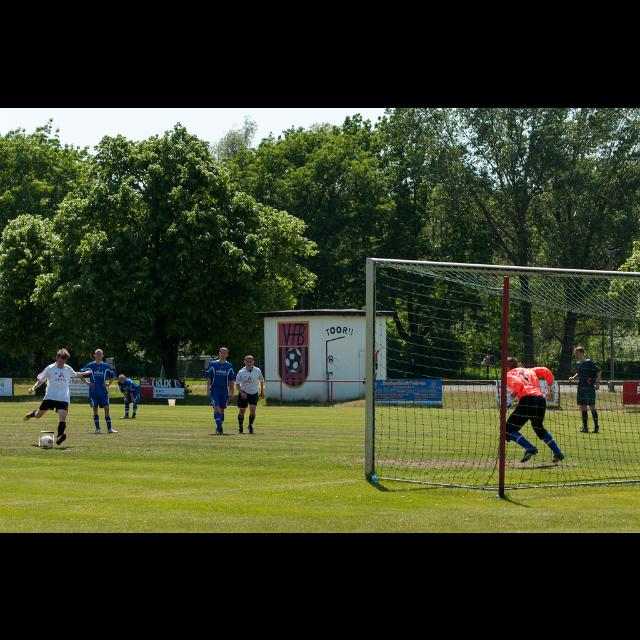Football: (40, 432, 54, 448)
